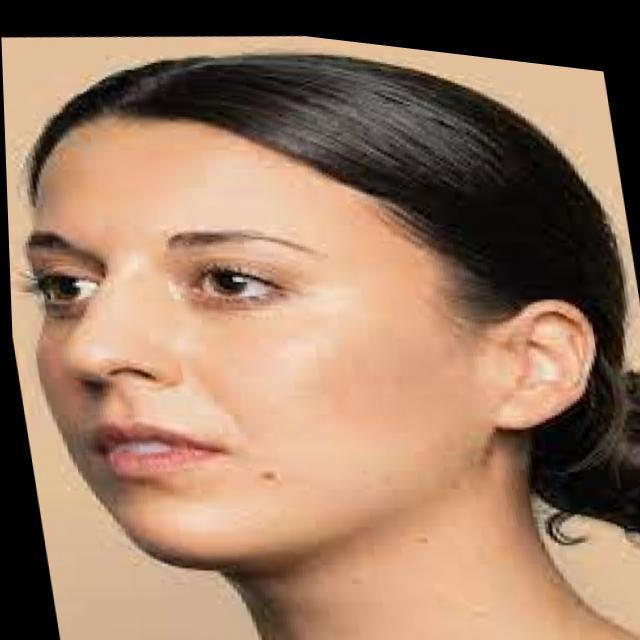Nonhelmet: (19, 49, 634, 576)
